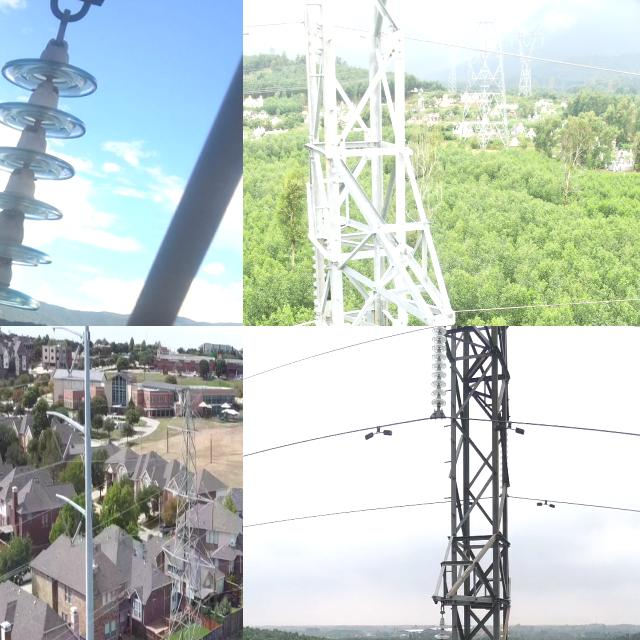杆塔: (294, 0, 467, 326), (425, 326, 529, 640), (158, 389, 218, 640)
正常电缆: (243, 12, 640, 87), (262, 290, 640, 326)
正常绝缘子: (0, 45, 102, 326), (426, 326, 452, 425), (65, 339, 83, 383), (429, 606, 451, 640), (54, 339, 72, 380), (59, 429, 76, 468), (59, 510, 75, 551), (50, 426, 66, 466), (68, 516, 85, 550), (207, 427, 213, 471), (210, 564, 218, 597), (164, 425, 171, 457), (210, 498, 215, 536), (162, 489, 166, 516)
